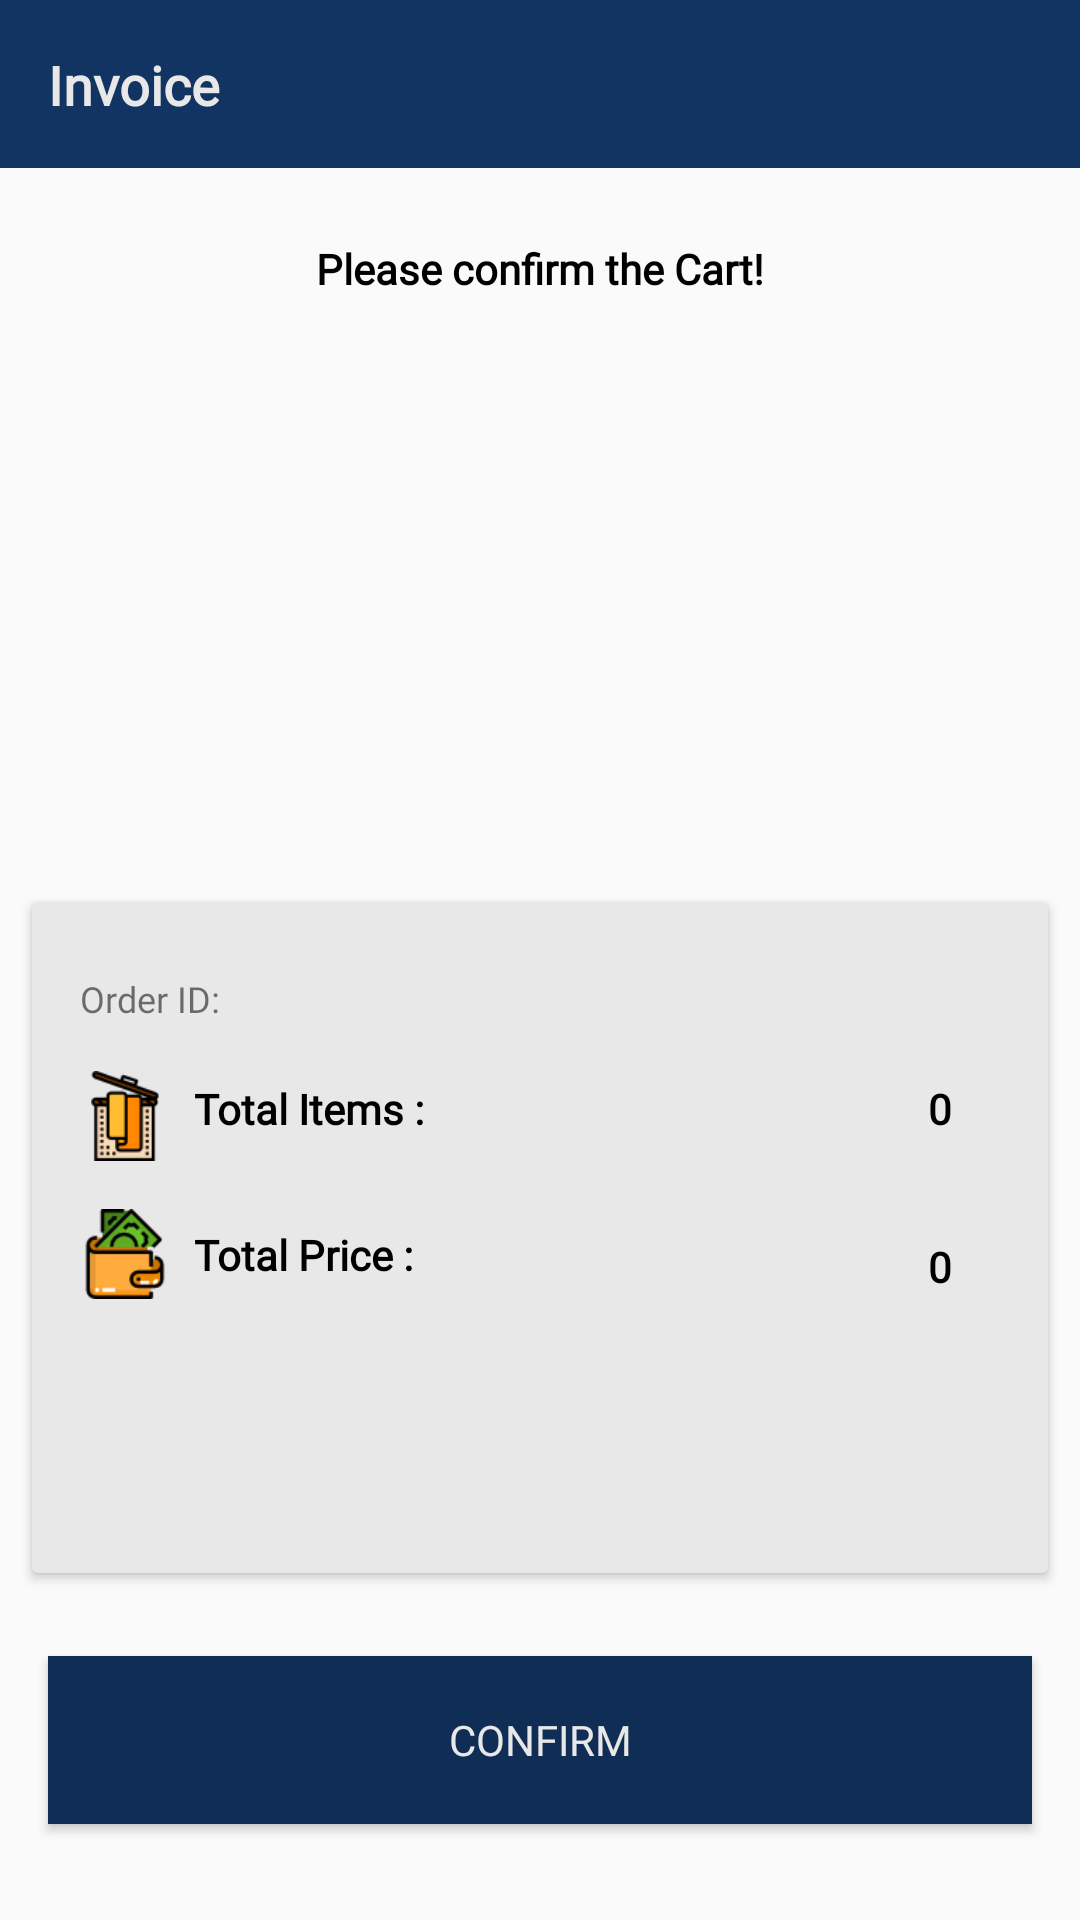

Where icons sit on this 1080px×1920px app screen, as region(x1, y1, x2, y2):
wallet: region(85, 1209, 165, 1299)
